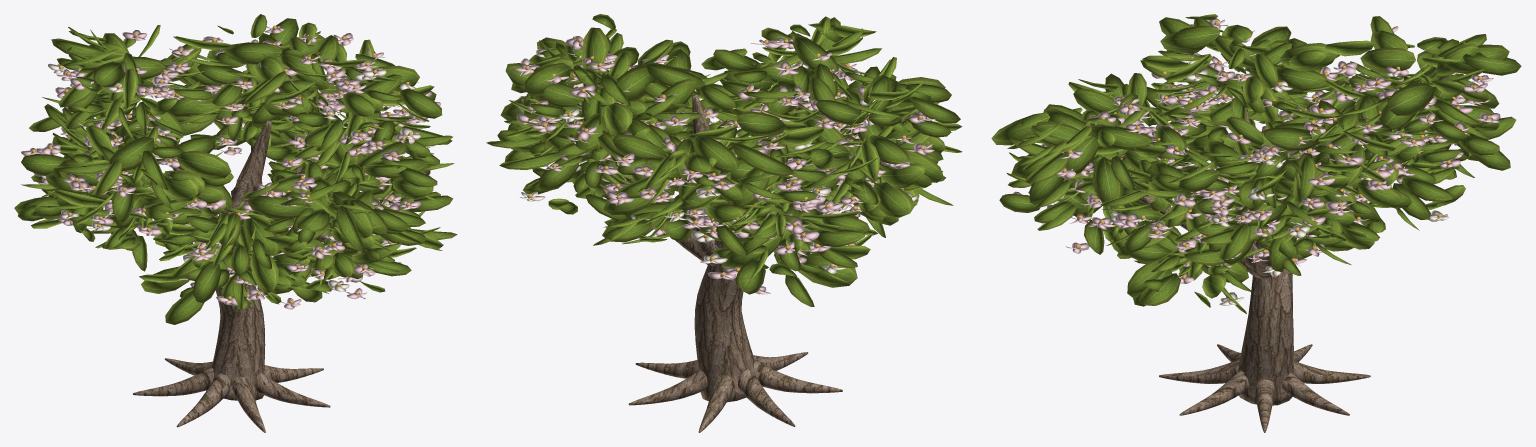
File: Spring_BlossomTree.fbx
The picture shows the model from 3 angles, left to right: view 1: azimuth 30°, elevation 25°; view 2: azimuth 150°, elevation 25°; view 3: azimuth 270°, elevation 25°; orthographic projection. The views are drawn at different scales.
Parts seen in each view (by area): view 1: Spring_BlossomTree; view 2: Spring_BlossomTree; view 3: Spring_BlossomTree.
Part boxes in pixels (x1,y1,x2,y2): Spring_BlossomTree: (14,14,457,432); Spring_BlossomTree: (486,14,962,432); Spring_BlossomTree: (991,14,1521,432).
Size of the model in its own units: 7.73 by 5.98 by 8.81.
Materials: 7 (4 with a texture image).
